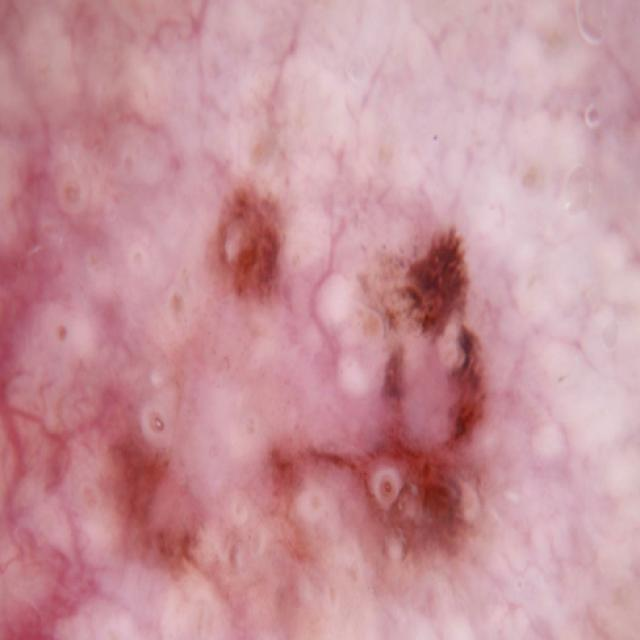Carcinoma: (335, 206, 503, 572), (100, 420, 218, 630), (189, 158, 313, 318), (258, 437, 318, 574)
